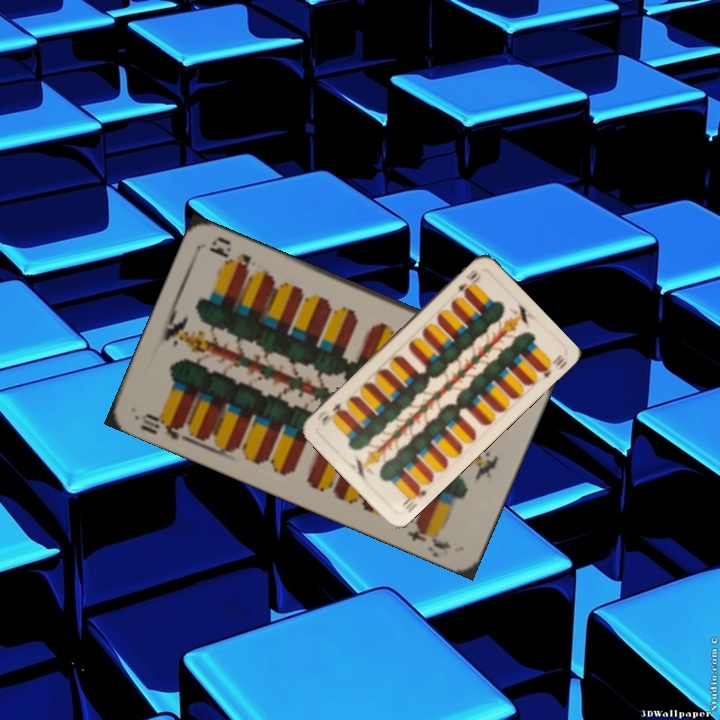E10: (133, 409, 189, 443), (398, 481, 429, 515), (453, 265, 484, 296)
